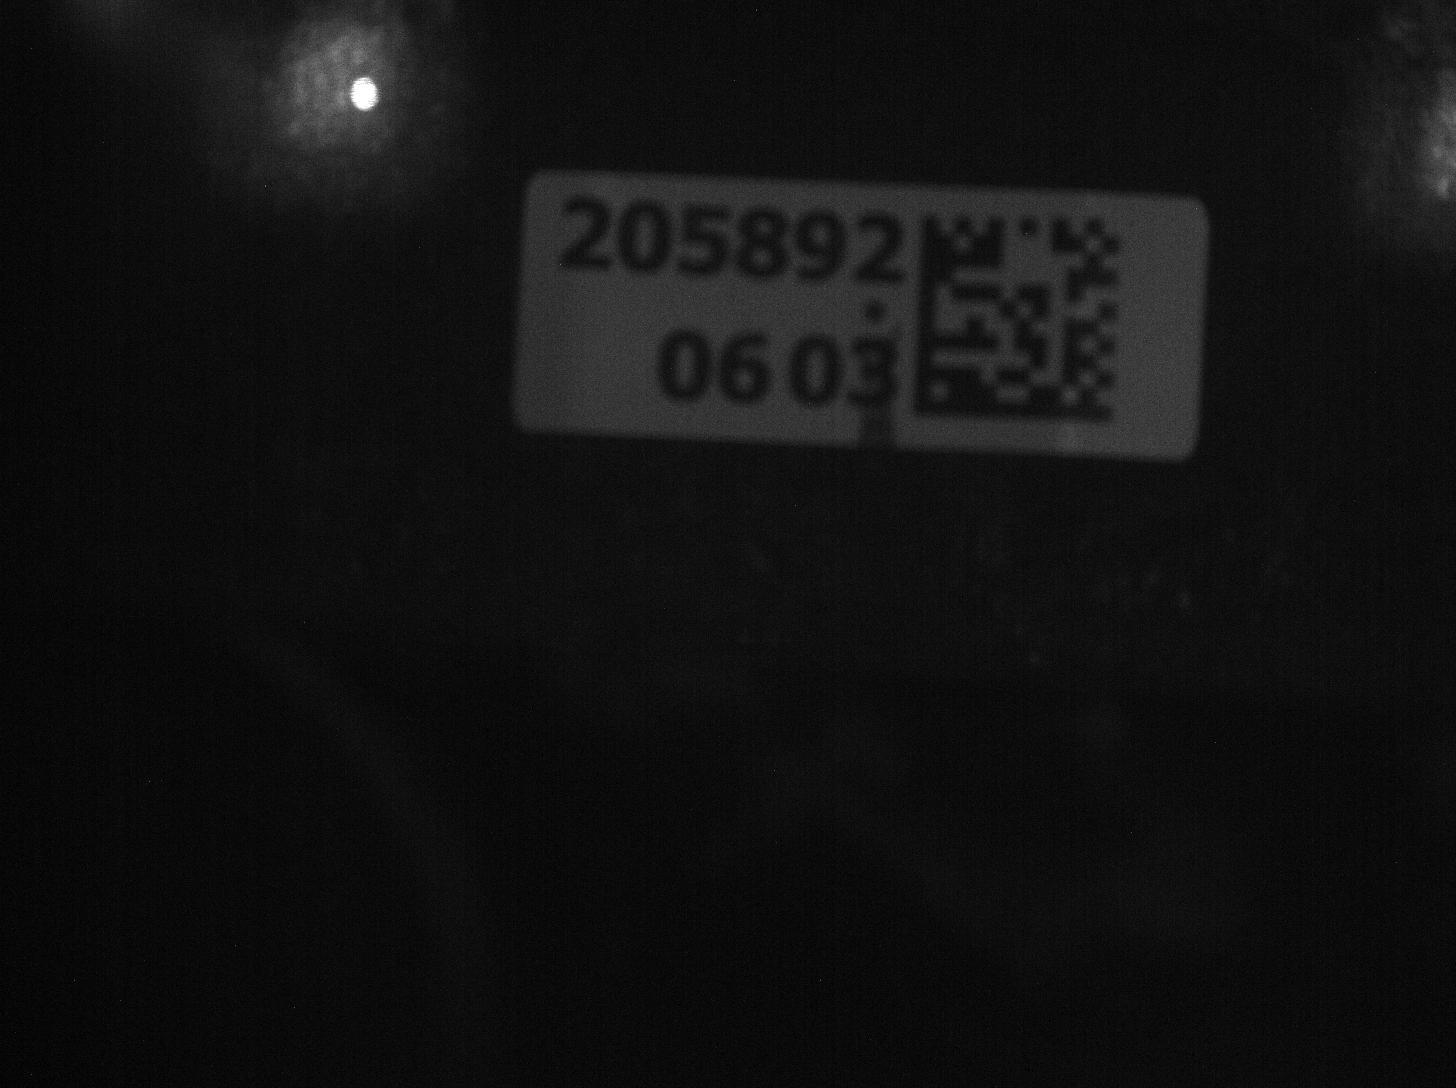data matrix: (905, 189, 1134, 439)
